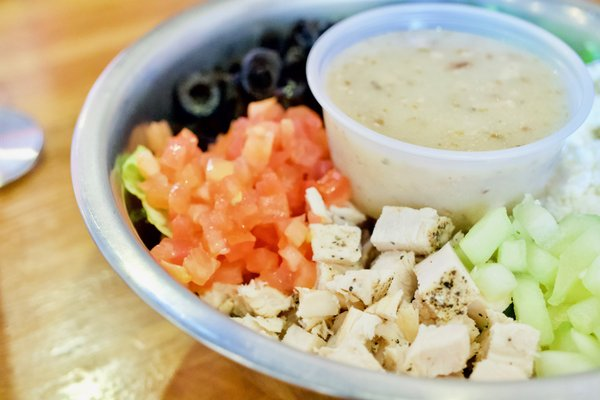salad: (0, 103, 44, 190)
sushi: (74, 8, 600, 395), (305, 2, 597, 221)
